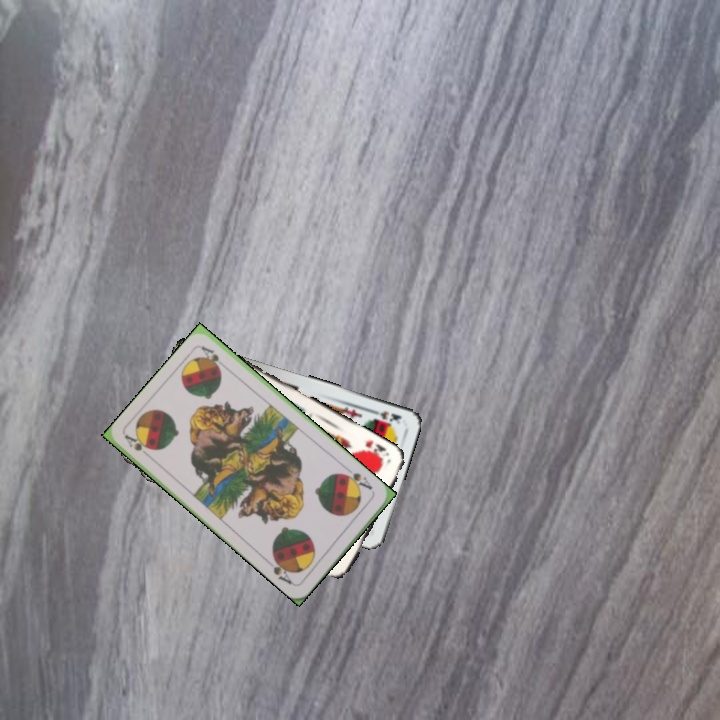HK: (358, 436, 392, 463)
SA: (121, 431, 155, 462), (339, 468, 375, 493)
SK: (366, 405, 404, 427)
